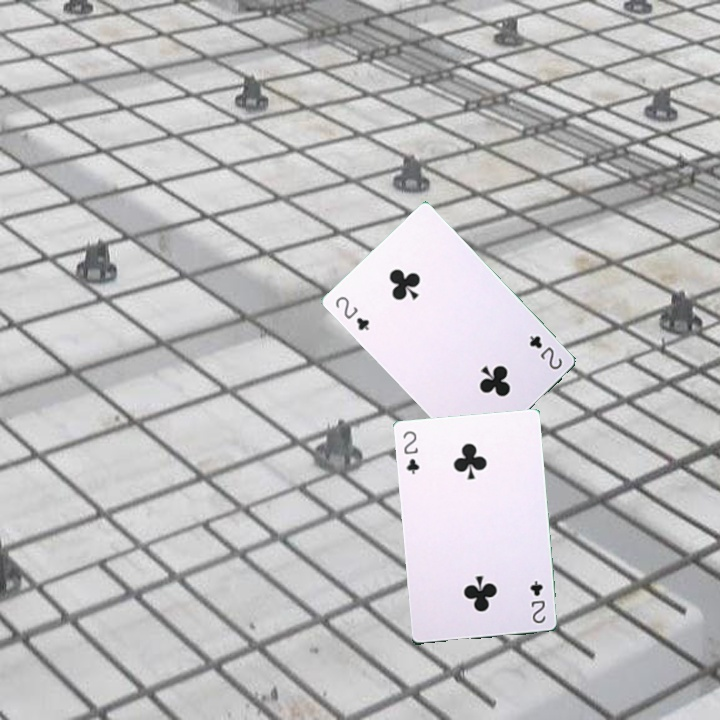2c: (331, 292, 372, 333), (525, 331, 565, 372), (399, 427, 422, 477), (526, 577, 548, 626)
